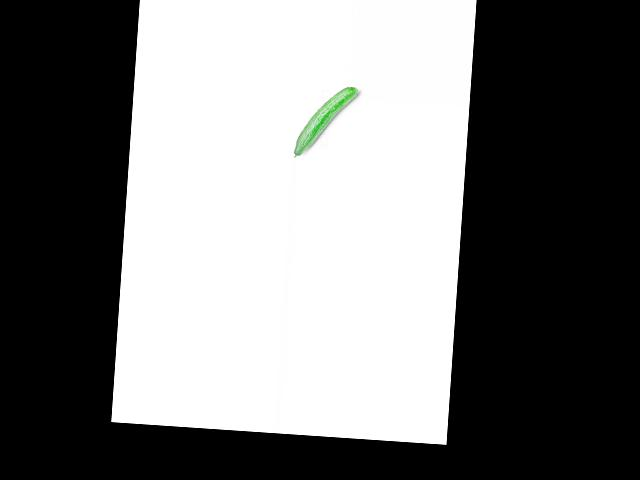cucumber: (293, 83, 359, 162)
